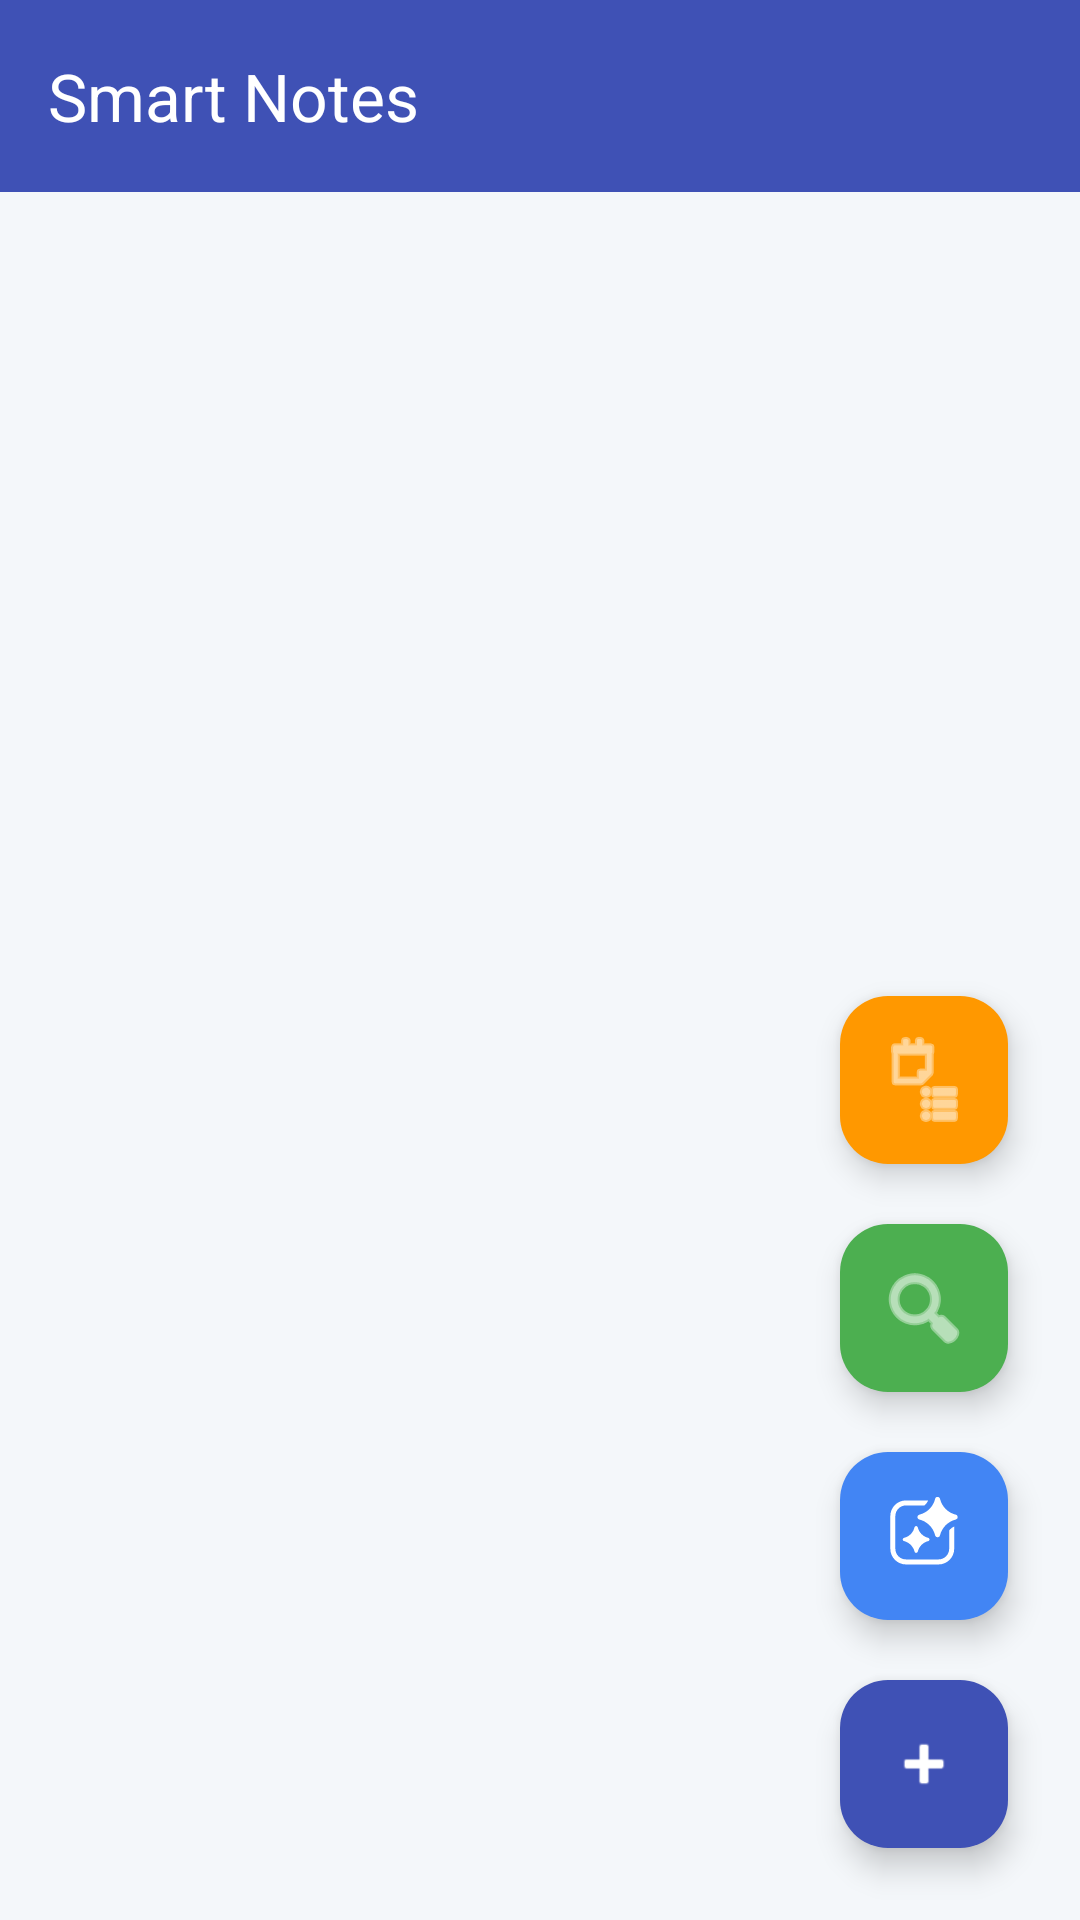

Locate icon controls on the screen. Image size 1080w x 1920h, boxes as (x1, y1, x2, y2).
AI Smart Note: (840, 1452, 1008, 1620)
Quản lý danh mục: (840, 996, 1008, 1164)
Search: (840, 1224, 1008, 1392)
Thêm ghi chú: (840, 1680, 1008, 1848)
